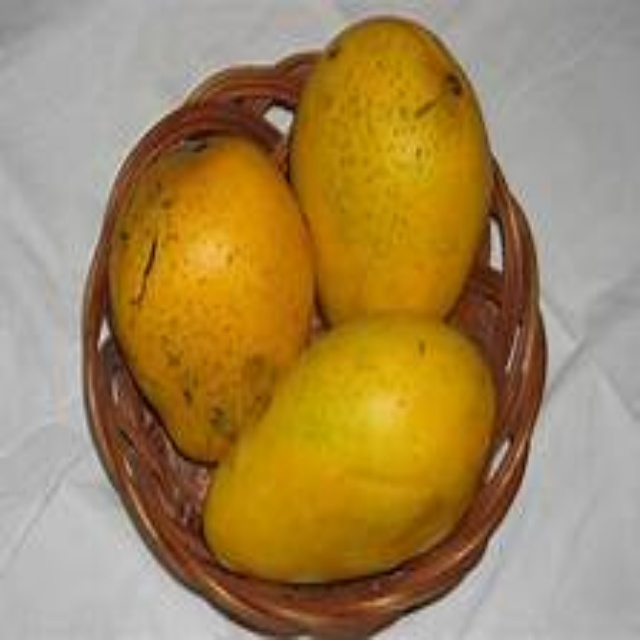mango: (190, 315, 500, 599), (107, 135, 315, 464), (292, 18, 501, 327)
